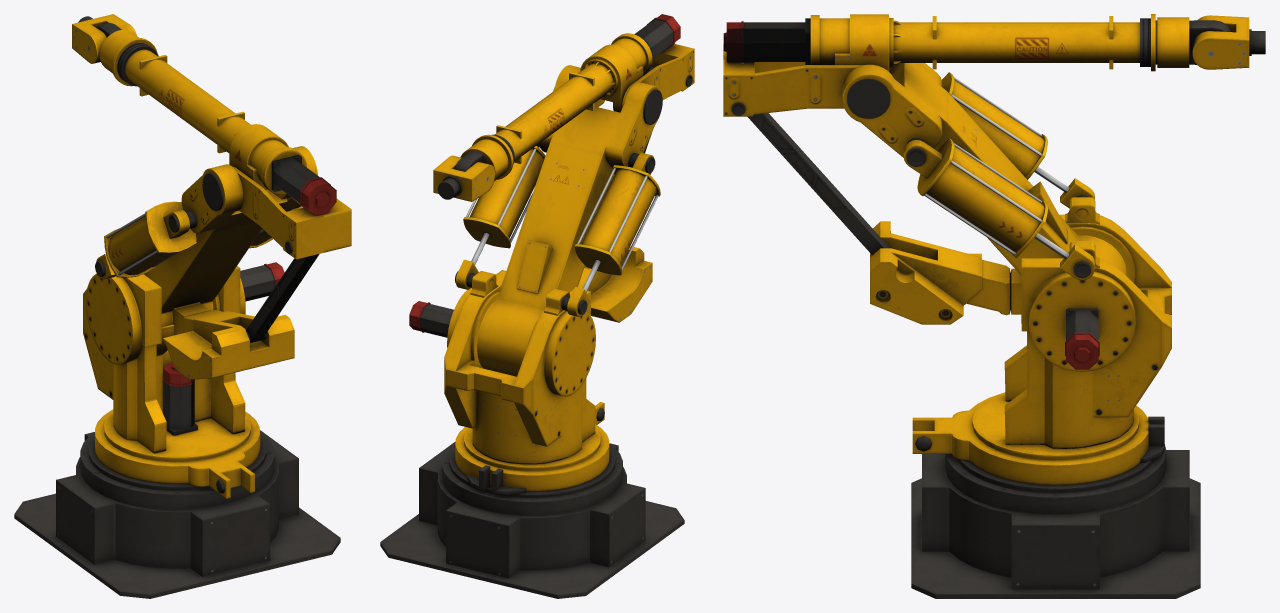
The model's file is robotic_arm.glb.
3 views of the same model, side by side, from view 1: azimuth 30°, elevation 25°; view 2: azimuth 150°, elevation 25°; view 3: azimuth 270°, elevation 25° (orthographic). The views are drawn at different scales.
Parts seen in each view (by area): view 1: polySurface718, LP_Top_low; view 2: polySurface718, LP_Top_low; view 3: polySurface718, LP_Top_low.
Part boxes in pixels (x1=…): polySurface718: x1=14, y1=154, x2=340, y2=598; LP_Top_low: x1=72, y1=14, x2=351, y2=379; polySurface718: x1=380, y1=14, x2=684, y2=598; LP_Top_low: x1=433, y1=33, x2=694, y2=376; polySurface718: x1=723, y1=18, x2=1200, y2=598; LP_Top_low: x1=723, y1=14, x2=1265, y2=324.
Size of the model in its own units: 1.13 by 2.2 by 2.07.
2 materials, 2 textured.
